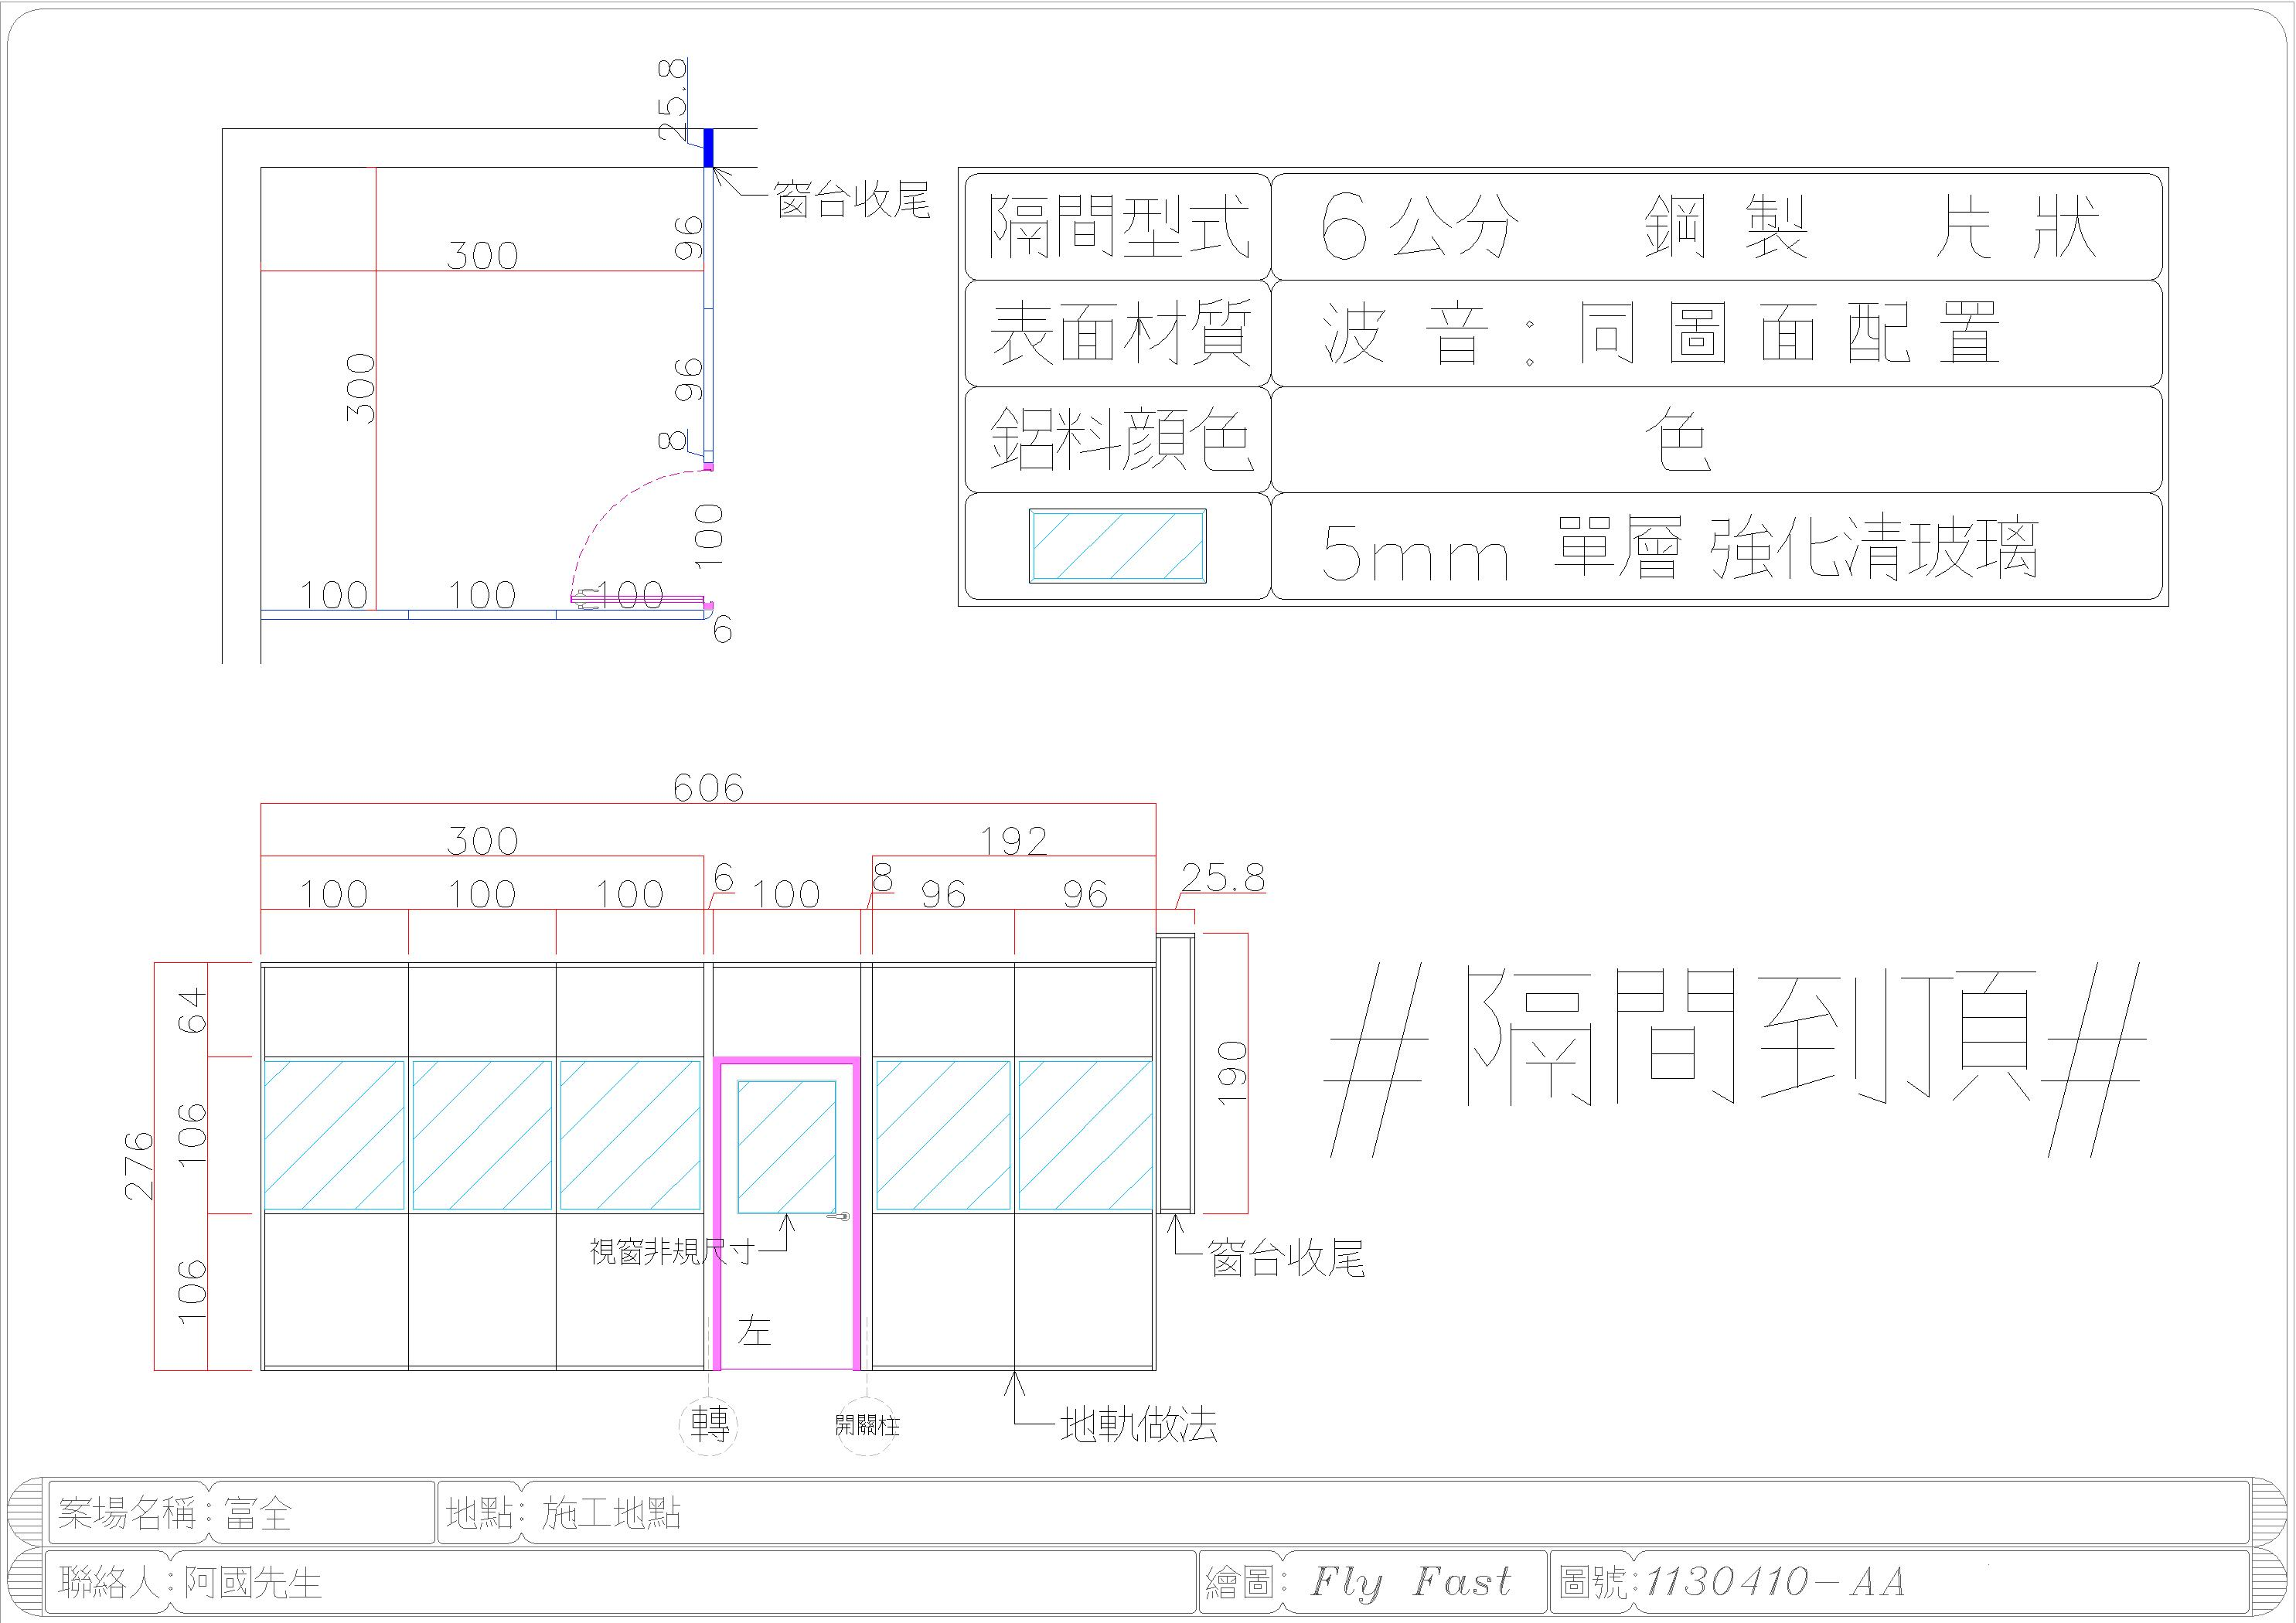SG: (406, 1053, 557, 1215)
